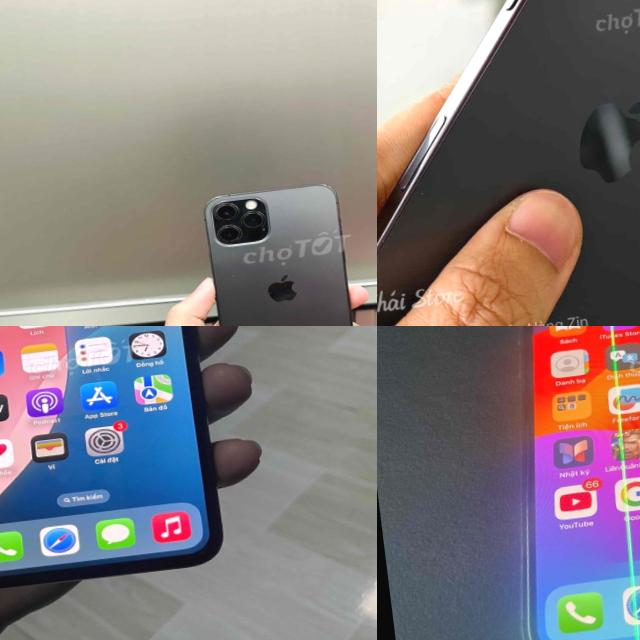gen_12_13: (197, 180, 361, 326)
gen_16: (377, 0, 640, 326)
gen_x_xs: (0, 326, 237, 602), (518, 326, 640, 640)
